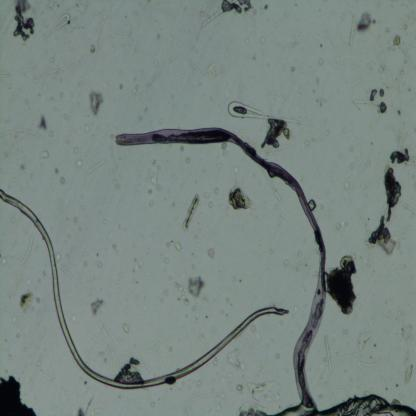Background material: (326, 251, 358, 318), (321, 394, 416, 415), (0, 367, 36, 415), (380, 164, 402, 223), (234, 381, 285, 405), (281, 245, 318, 278), (401, 309, 416, 383), (365, 219, 395, 254), (260, 118, 293, 149), (12, 0, 35, 42), (112, 352, 144, 382), (226, 180, 254, 211), (183, 193, 202, 231), (368, 86, 389, 116), (184, 274, 208, 298), (221, 1, 253, 19), (87, 89, 106, 117), (76, 389, 94, 416), (227, 347, 248, 370), (389, 146, 413, 166), (17, 289, 37, 312), (172, 281, 190, 306), (208, 390, 227, 412), (356, 328, 373, 351), (204, 59, 219, 84), (395, 58, 407, 88), (148, 170, 164, 192), (330, 51, 346, 73), (357, 12, 374, 32), (375, 56, 391, 74), (89, 294, 104, 313), (391, 32, 404, 51), (128, 256, 142, 272), (37, 115, 48, 132), (315, 94, 327, 108), (206, 244, 215, 262), (277, 209, 287, 224), (338, 220, 350, 232), (69, 310, 79, 324), (304, 136, 317, 146), (49, 163, 60, 174), (120, 325, 130, 337), (345, 178, 354, 191), (0, 253, 8, 267), (220, 140, 228, 154), (206, 199, 216, 209), (202, 190, 212, 200), (316, 56, 326, 66), (161, 289, 169, 301), (173, 242, 182, 252), (394, 108, 403, 118), (215, 162, 221, 177), (165, 238, 173, 249), (19, 163, 28, 172), (40, 150, 49, 159), (89, 44, 97, 54), (41, 268, 48, 279), (348, 161, 356, 170), (153, 31, 161, 40), (288, 64, 297, 72), (58, 176, 66, 185), (342, 328, 352, 335), (148, 400, 156, 408), (183, 156, 191, 164), (96, 261, 104, 269), (26, 277, 32, 287), (214, 185, 220, 195), (82, 257, 88, 267), (164, 255, 170, 265), (244, 34, 250, 44), (258, 36, 265, 44), (179, 144, 186, 152), (249, 29, 257, 36), (16, 330, 21, 341), (56, 252, 61, 263), (314, 76, 320, 85), (274, 352, 281, 359), (74, 160, 81, 167), (212, 359, 218, 367), (72, 215, 78, 223), (58, 91, 64, 99), (262, 5, 270, 11), (73, 146, 79, 154), (349, 144, 354, 153), (143, 106, 149, 113), (132, 86, 138, 93), (191, 262, 196, 270), (102, 217, 107, 225), (383, 385, 389, 391), (338, 153, 344, 159), (118, 83, 124, 89), (83, 380, 88, 387), (112, 242, 116, 250), (312, 86, 316, 94), (326, 128, 330, 136), (66, 252, 70, 260), (191, 304, 196, 310), (308, 66, 313, 72), (29, 173, 34, 179), (253, 8, 257, 15), (51, 58, 56, 63), (396, 382, 400, 388), (86, 126, 90, 132), (254, 325, 258, 331), (370, 140, 374, 146), (146, 0, 152, 3), (320, 42, 323, 48), (373, 343, 377, 347)
Cotton: (115, 126, 329, 410)
Glass filter fibre: (226, 100, 311, 120), (38, 14, 70, 44), (264, 175, 284, 202), (18, 235, 34, 266), (202, 7, 226, 26), (320, 350, 360, 361), (347, 14, 357, 49), (87, 158, 108, 174), (324, 336, 333, 372), (184, 54, 200, 71), (359, 356, 381, 368), (399, 200, 416, 215), (98, 320, 110, 339), (328, 202, 332, 221)
Microfibre: (0, 189, 289, 389)
